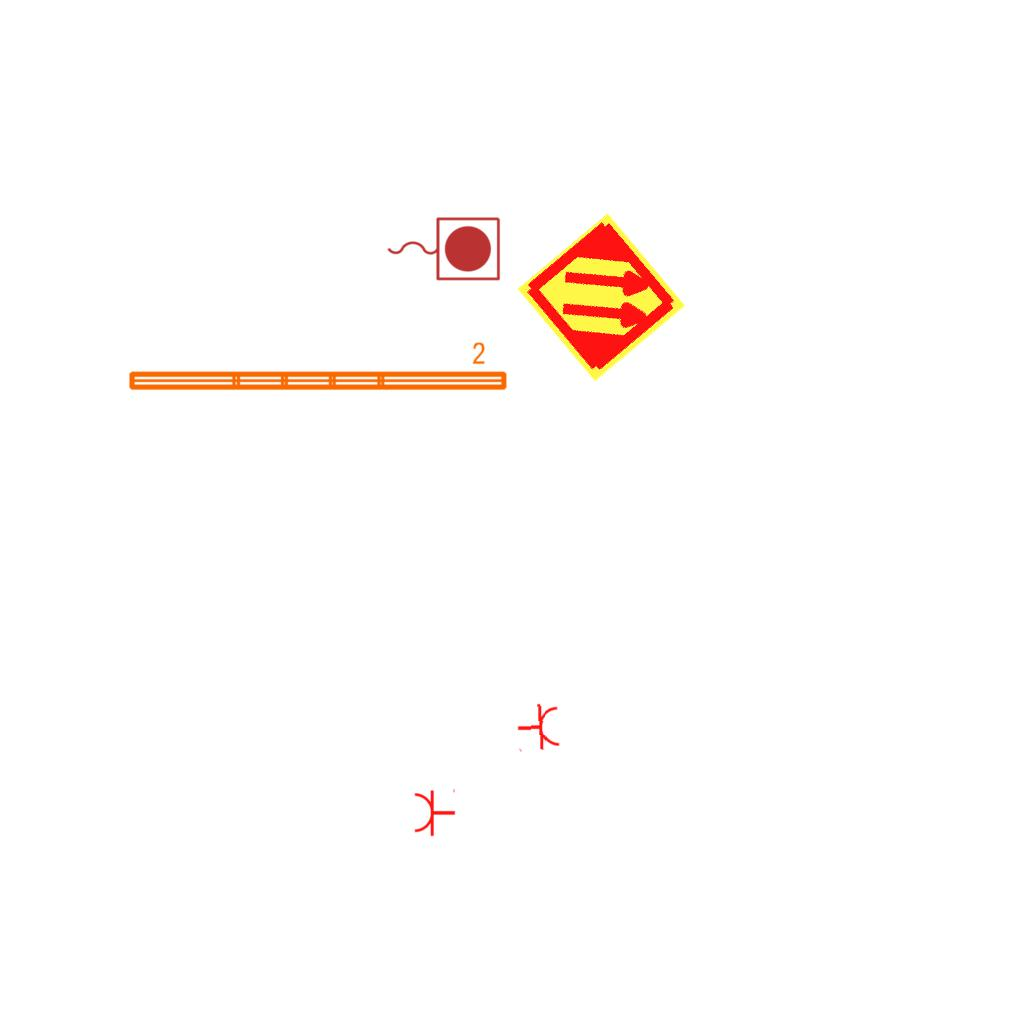ASR_Ansaugrauchmelder: (513, 209, 690, 386)
Ambulanz_Pendelleuchte_LED: (124, 340, 511, 396)
Schukosteckdose_einfach: (515, 701, 562, 755), (413, 787, 456, 837)
Zugtaster: (382, 212, 504, 284)
